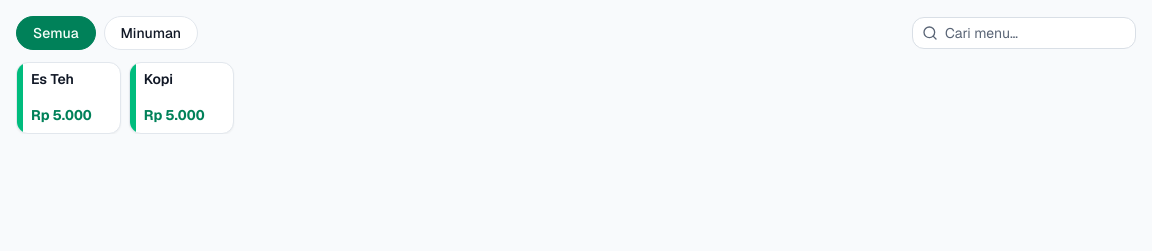
it: ProductGrid › offers to clear a search that matches nothing
Type "zzz" into the search field labelled "Cari menu…" at (1024, 33), box [912,17,1136,49]
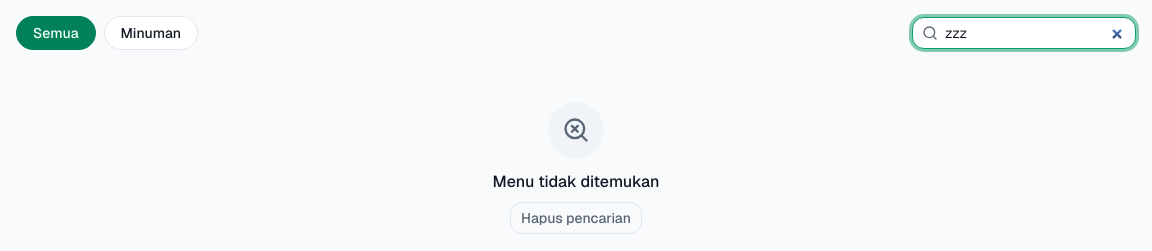
Expected: the text "Menu tidak ditemukan" is shown, [493,170,660,194]
Click the button "Hapus pencarian" at (576, 218), box [510,202,642,234]
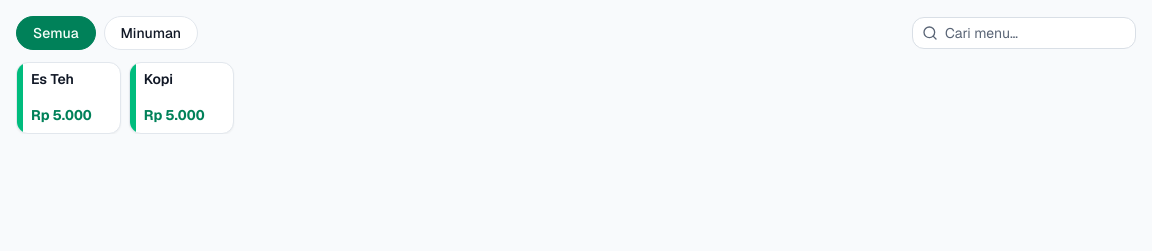
Expected: the button "Es Teh Rp 5.000" is shown, [16,62,121,134]
